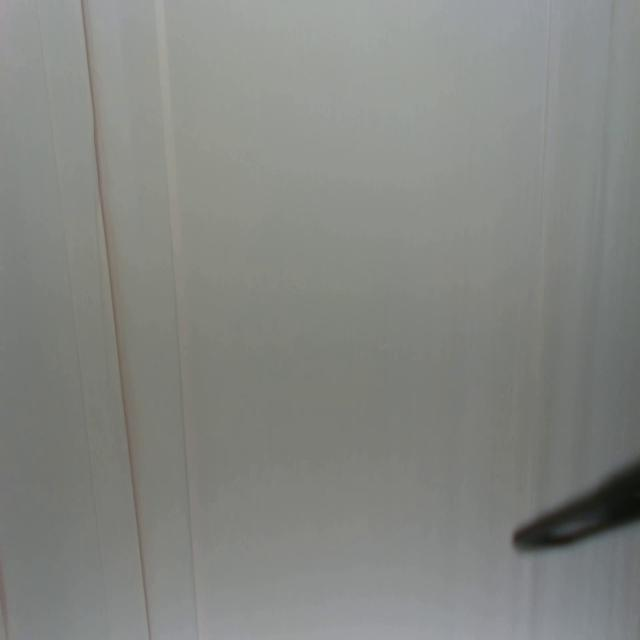crease: (36, 1, 110, 639), (82, 0, 150, 640), (155, 0, 201, 640), (525, 2, 553, 500)
